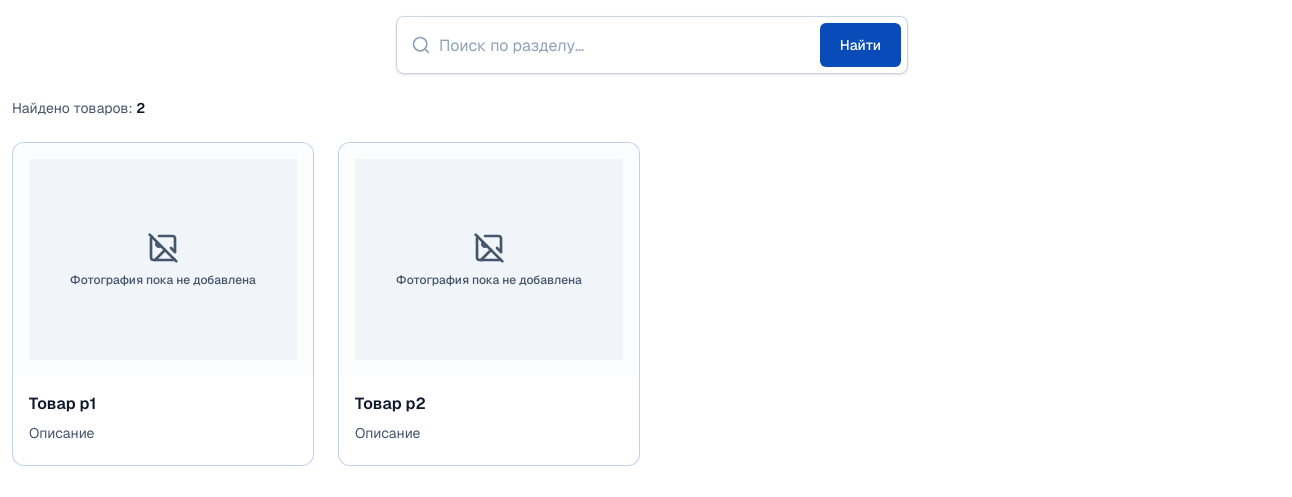
Scenario: ClientCatalogSearch: параметры API для других страниц семейства › страница category+brand передаёт category и brand в запросе к Worker
Type "насос" into the field labelled "Поиск по разделу…". click: point(625, 45)
box: [439,25,812,65]
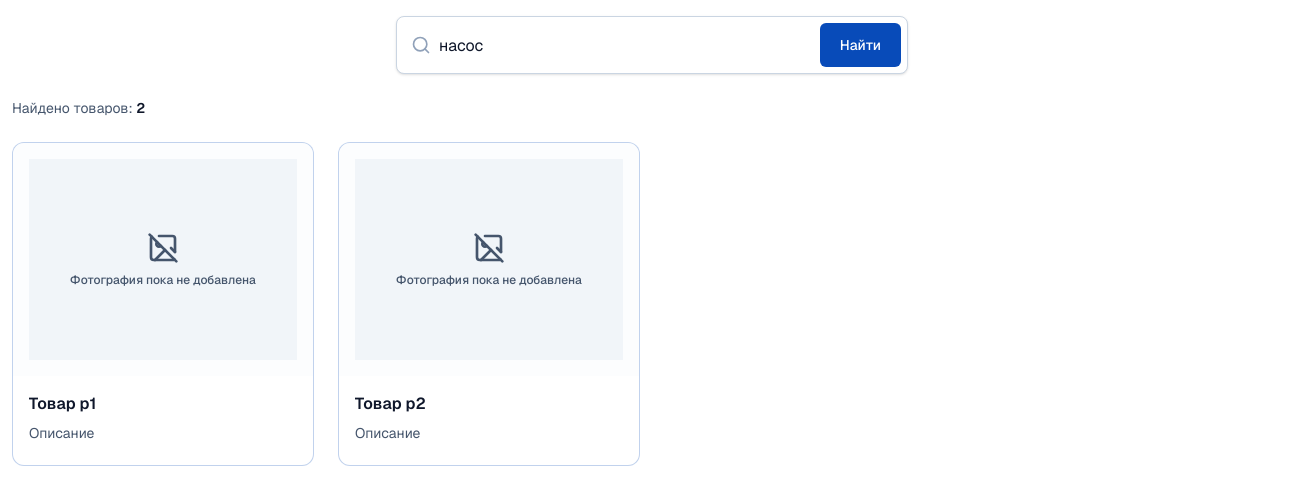
Submit the form named "поиск", box [396,16,908,74]
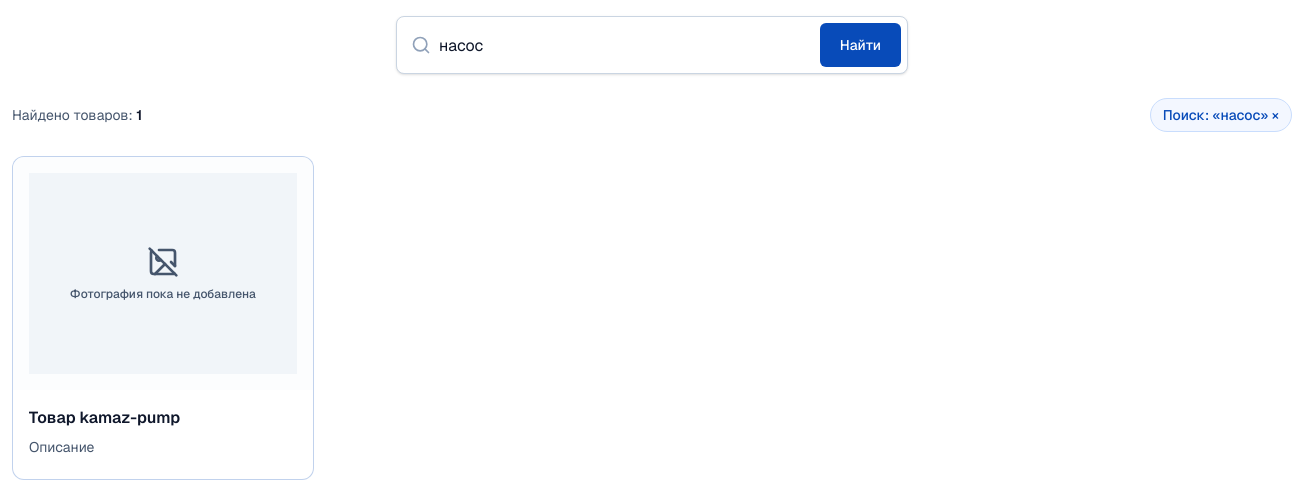
Expected: the text "Товар kamaz-pump" is shown, [29,407,180,428]
